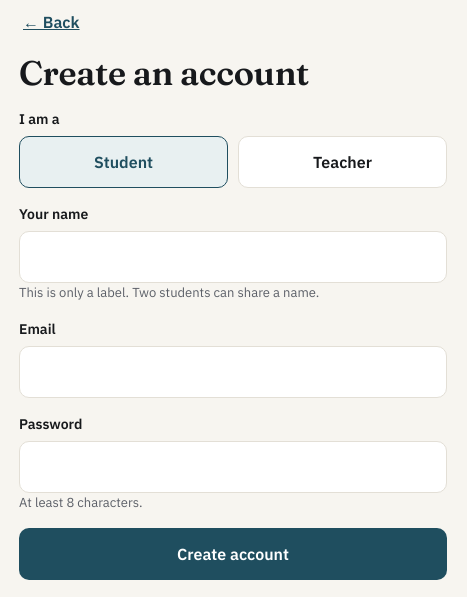
Test: creating an account › disables the button while creating, so a double click cannot create two accounts
This screenshot has width=467, height=597.
Type "Priya Nair" into the field labelled "Your name" at (233, 257), box left=19, top=231, right=447, bottom=283
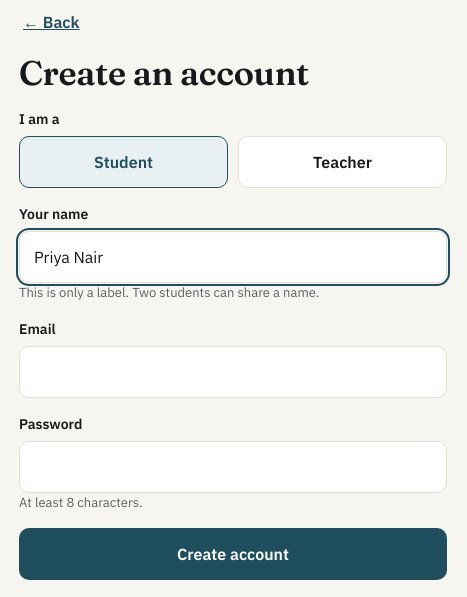
Type "priya@test.in" into the field labelled "Email" at (233, 372), box left=19, top=346, right=447, bottom=398
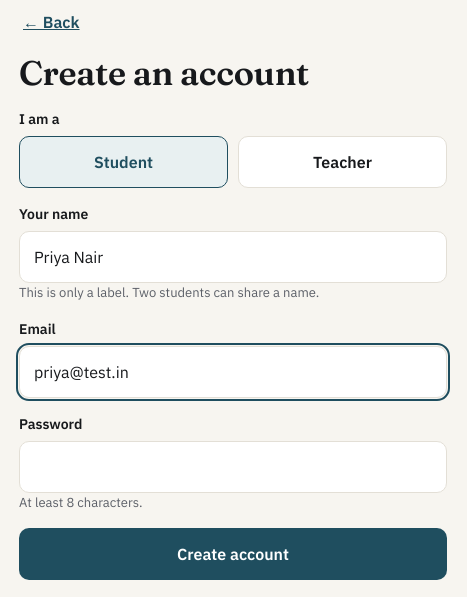
Type "password123" into the password field labelled "Password" at (233, 467), box left=19, top=441, right=447, bottom=493
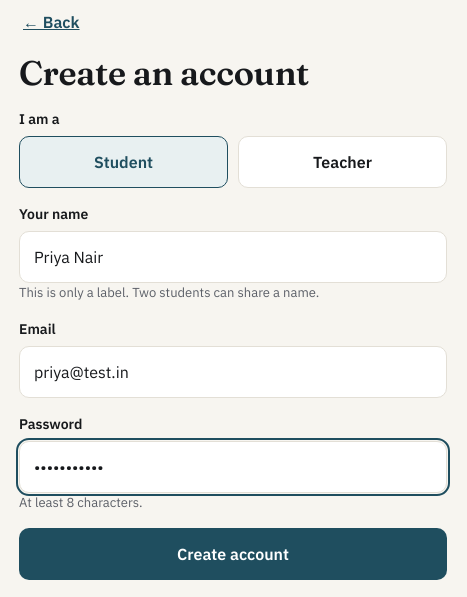
Click the button "Create account" at (233, 554), box left=19, top=528, right=447, bottom=580
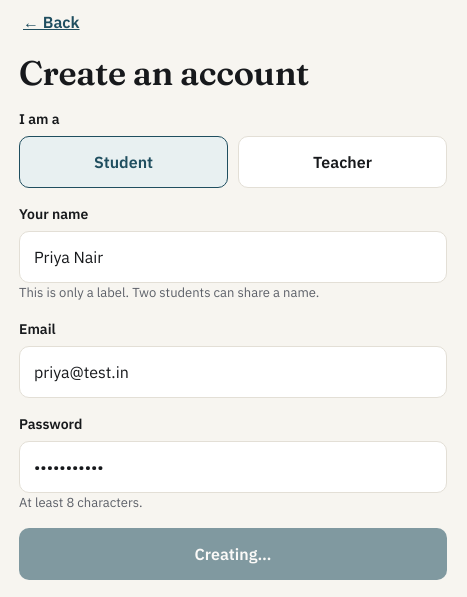
Check: the button "Creating…" is disabled, box left=19, top=528, right=447, bottom=580
